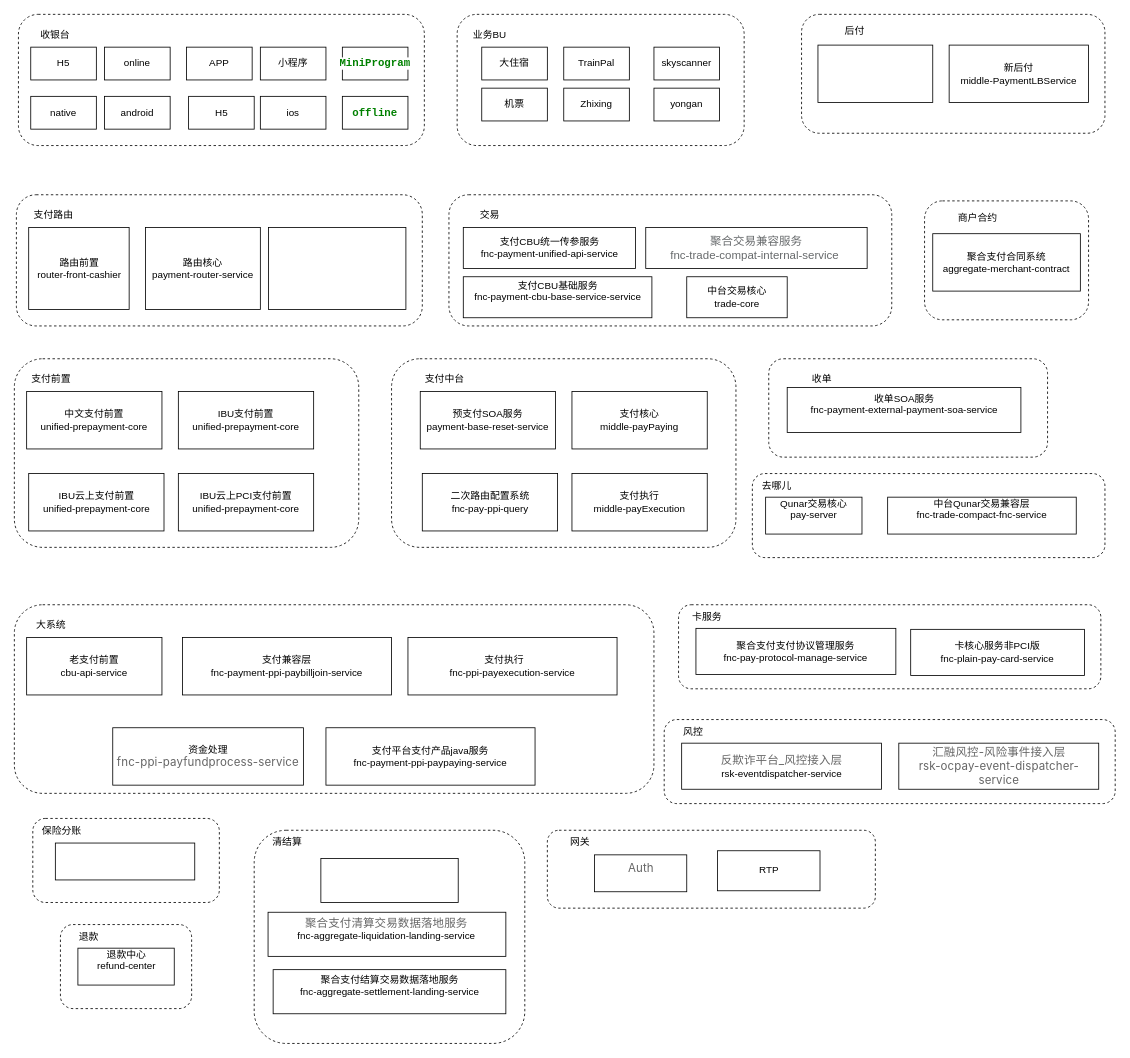
Some shapes in this 1130 by 1058 pixel diagram are drawn without their labels. The box of each missing label's shape, as (x1, y1, x2, y2) in pixels:
保险分账 payment-account-split: (55, 842, 195, 880)
支付流水记录 fnc-paymentrecord-service: (320, 858, 458, 903)
老后付 PaymentLBService: (817, 44, 933, 102)
路由核心前置 payment-router-core-service: (268, 227, 406, 310)
